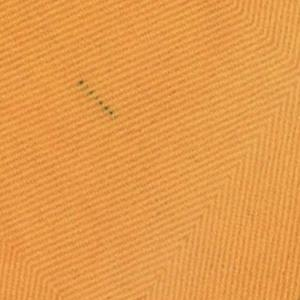stain: (75, 74, 118, 129)
